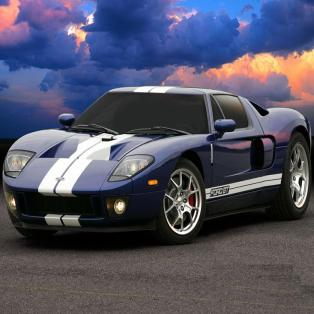Auto: (3, 85, 310, 245)
